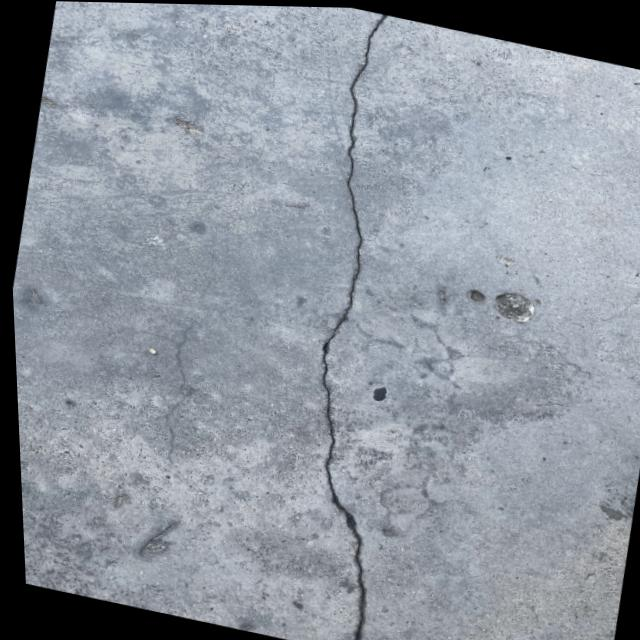Crack: (227, 4, 496, 640)
